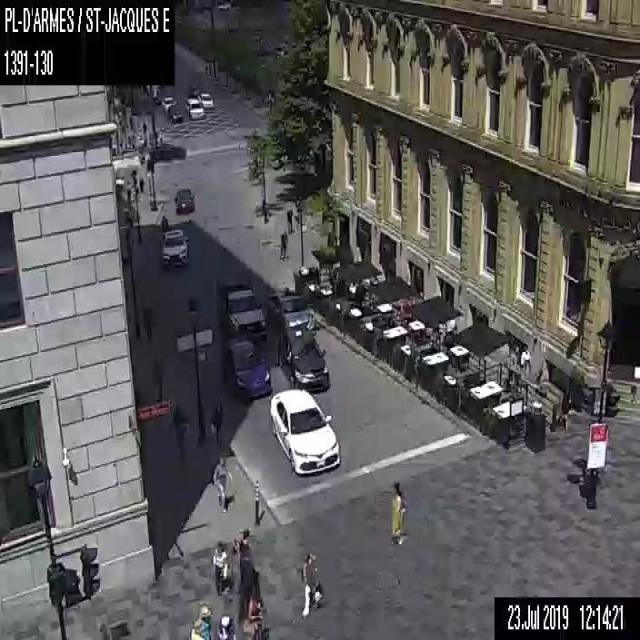pedestrian: (237, 541, 260, 621), (301, 551, 323, 615), (243, 590, 268, 639), (390, 480, 406, 545), (211, 539, 230, 593), (212, 454, 228, 512), (188, 604, 212, 638), (172, 402, 184, 447), (142, 300, 154, 344), (152, 352, 163, 399), (210, 402, 222, 444), (216, 612, 234, 638), (519, 347, 530, 376), (279, 228, 288, 258), (285, 208, 292, 234), (141, 119, 146, 140), (138, 175, 144, 192)
vehicle: (269, 388, 340, 474), (276, 328, 330, 392), (215, 274, 266, 340), (221, 337, 271, 396), (268, 290, 316, 332), (160, 226, 189, 266), (173, 188, 194, 213), (184, 98, 203, 117), (197, 90, 213, 108), (166, 104, 182, 122), (162, 95, 176, 111)
